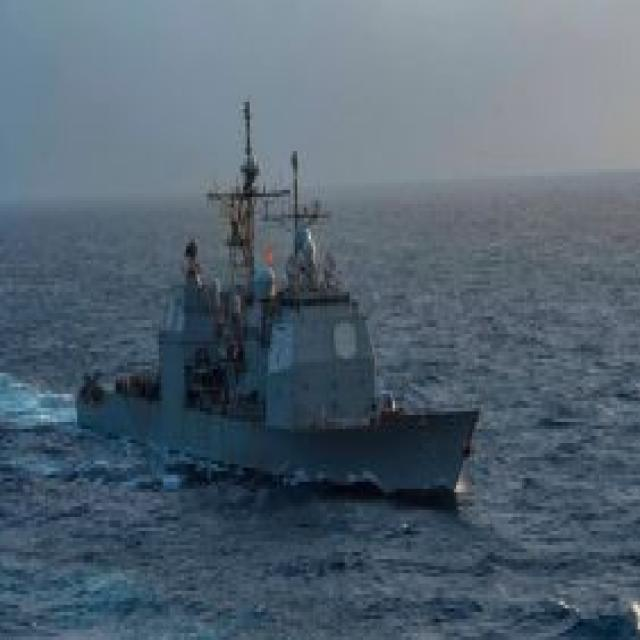navalvessels: (69, 128, 492, 522)
